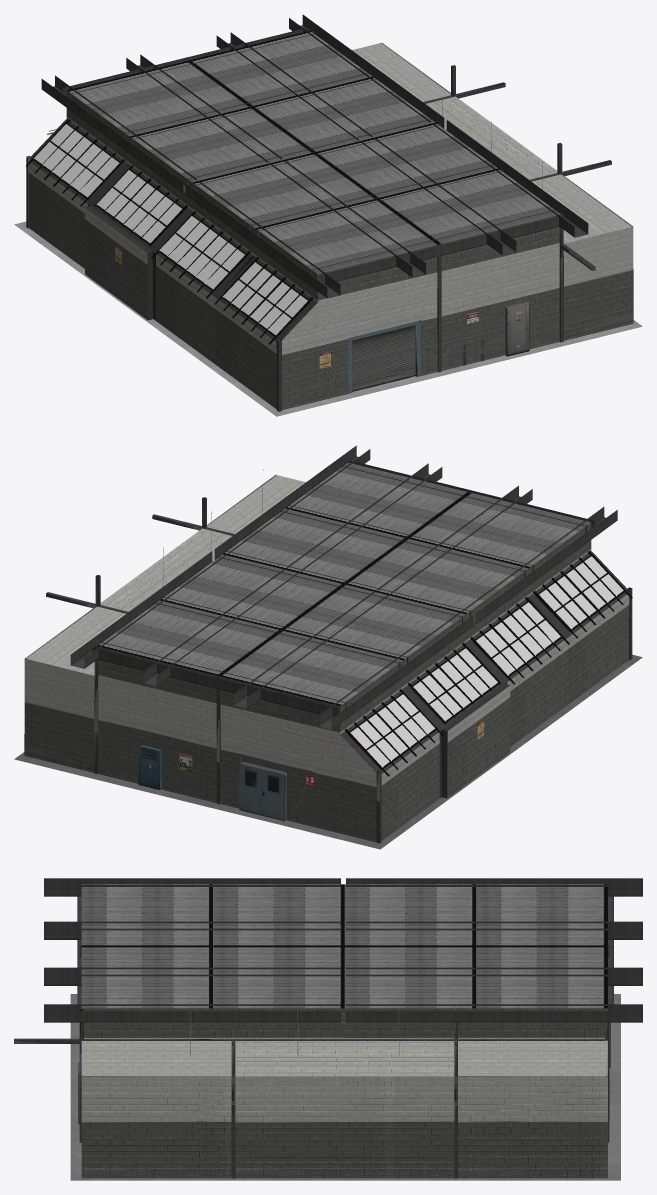
Rendered from garage.fbx.
The picture shows the model from 3 angles, top to bottom: view 1: azimuth 30°, elevation 25°; view 2: azimuth 150°, elevation 25°; view 3: azimuth 270°, elevation 25°; orthographic projection. The views are drawn at different scales.
Parts seen in each view (by area): view 1: garage2, windo, floor1; view 2: garage2, windo, floor1; view 3: garage2, floor1.
Boxes of the visible parts, x1=… form: garage2: x1=26, y1=14, x2=633, y2=411; windo: x1=33, y1=124, x2=307, y2=334; floor1: x1=14, y1=194, x2=642, y2=416; garage2: x1=24, y1=445, x2=632, y2=843; windo: x1=350, y1=556, x2=623, y2=767; floor1: x1=14, y1=629, x2=642, y2=849; garage2: x1=14, y1=878, x2=642, y2=1178; floor1: x1=70, y1=994, x2=620, y2=1180.
Bounding box in the file's own units: 28776 × 10204 × 36302.
